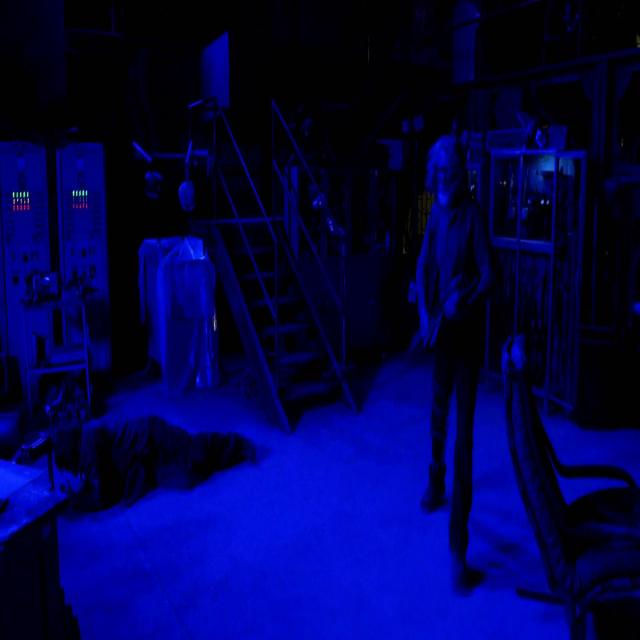People: (424, 119, 508, 581), (48, 384, 265, 539)
chair: (501, 325, 640, 639), (29, 242, 96, 407)
